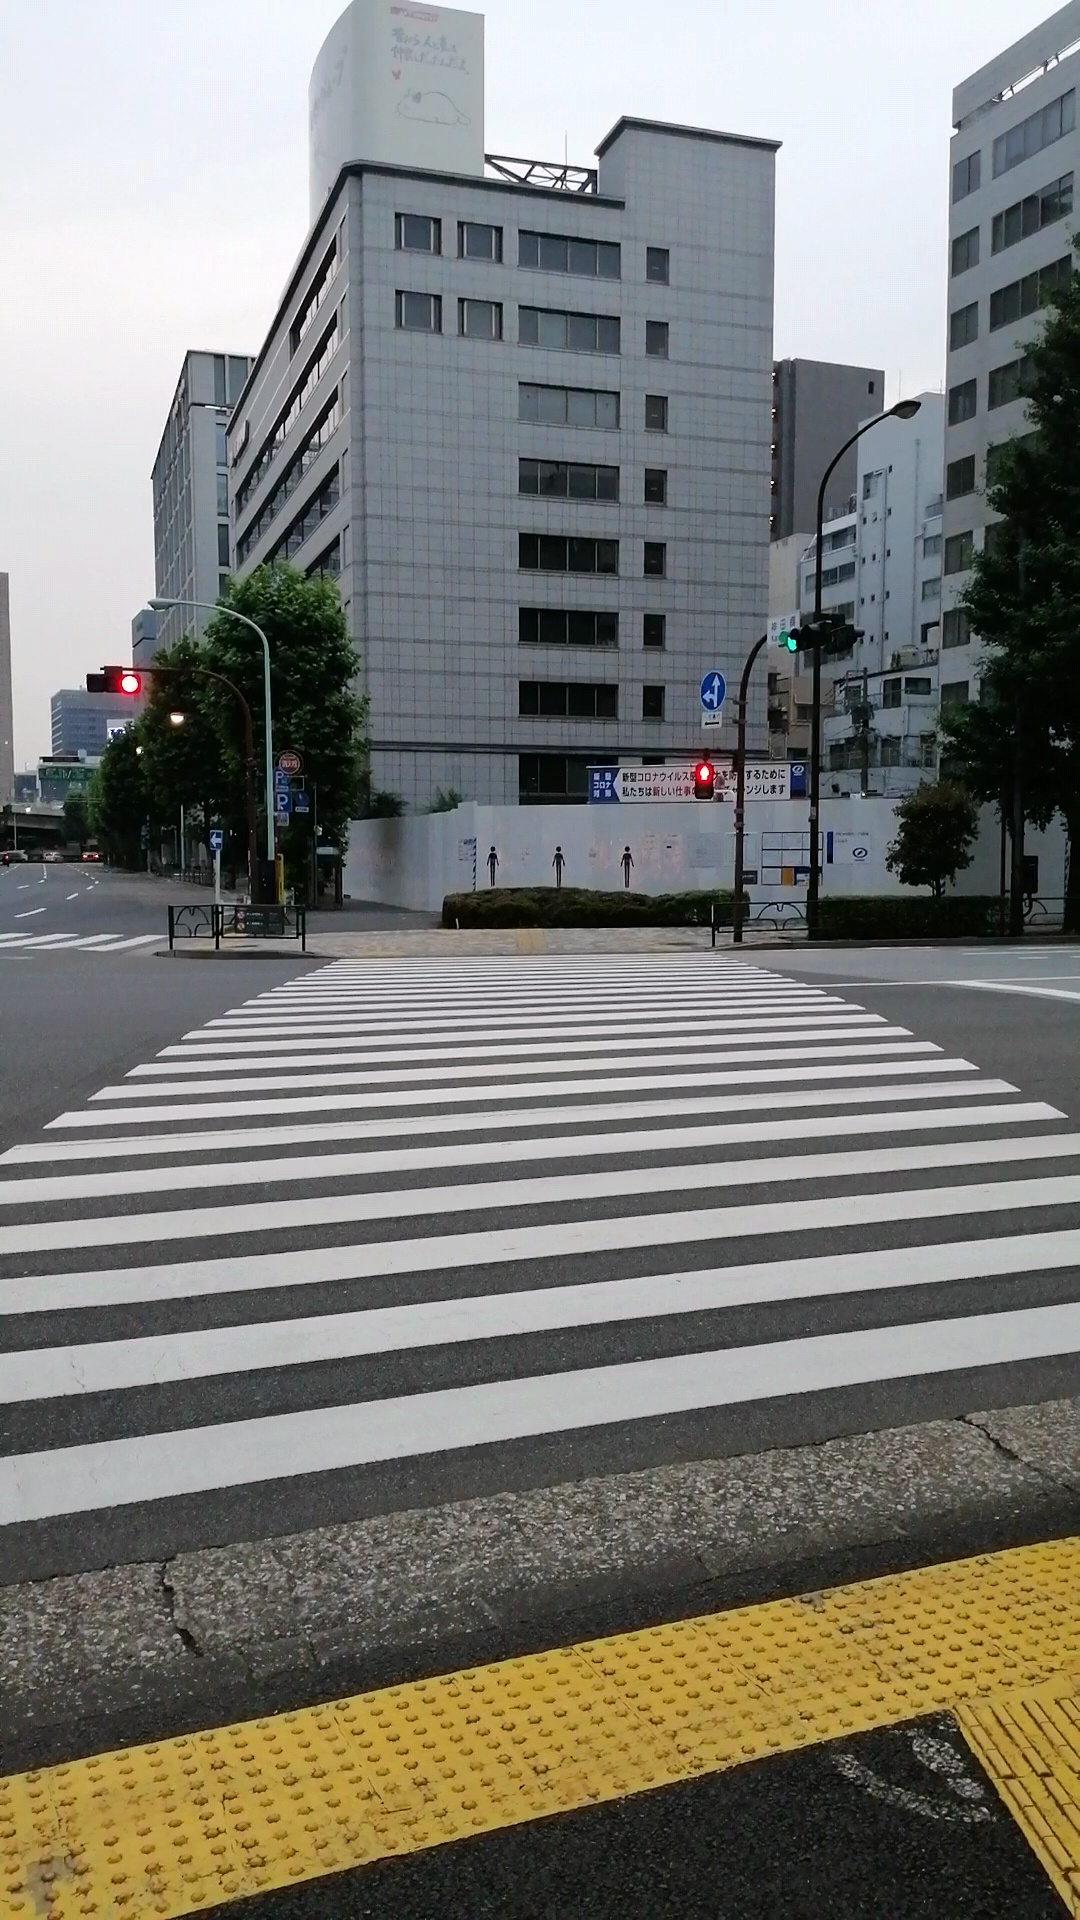red: (694, 761, 713, 800)
